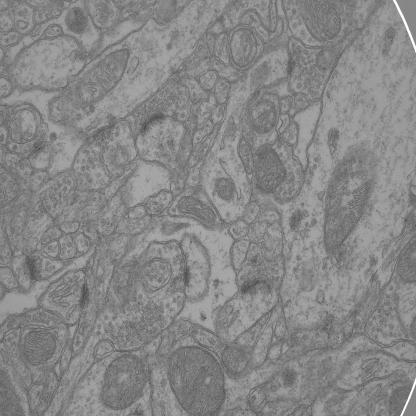mitochondria: (48, 43, 131, 124), (320, 152, 376, 259), (165, 346, 227, 416), (97, 351, 150, 411), (296, 0, 348, 46), (249, 147, 293, 196), (174, 192, 216, 230), (18, 330, 60, 366), (64, 5, 91, 34), (215, 175, 237, 201)
